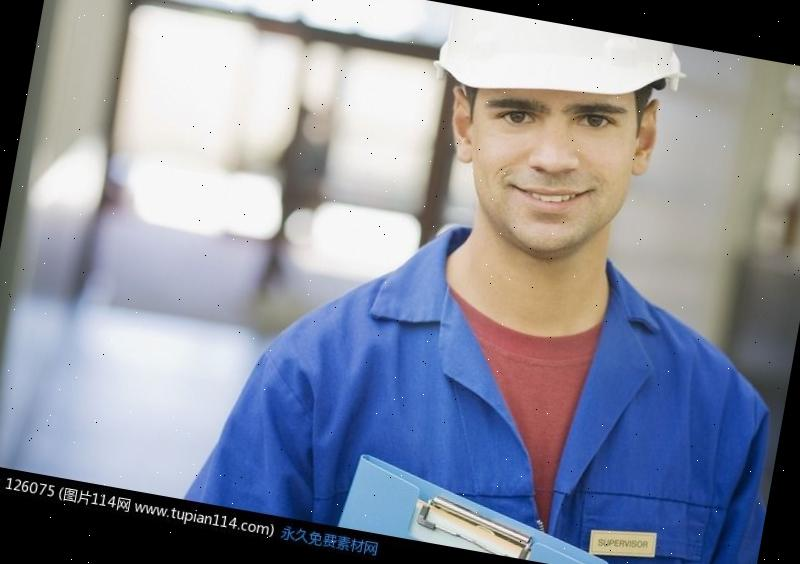helmet: (426, 4, 701, 132)
wear: (232, 249, 782, 564)
